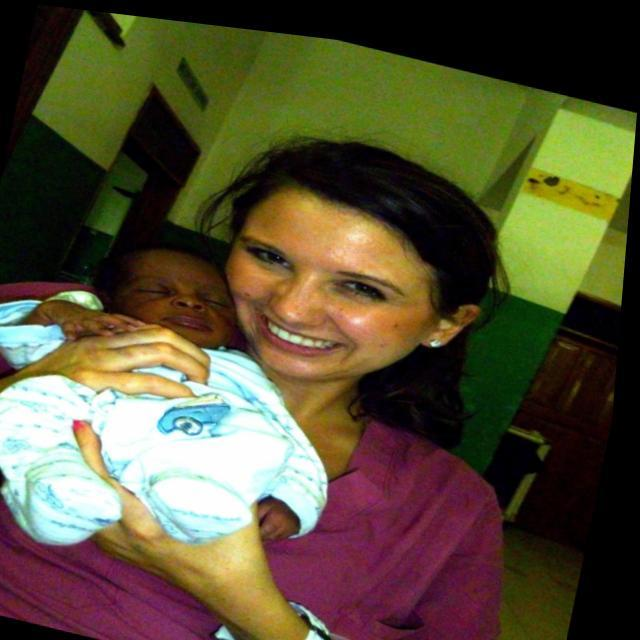Nonhelmet: (202, 119, 504, 397)
